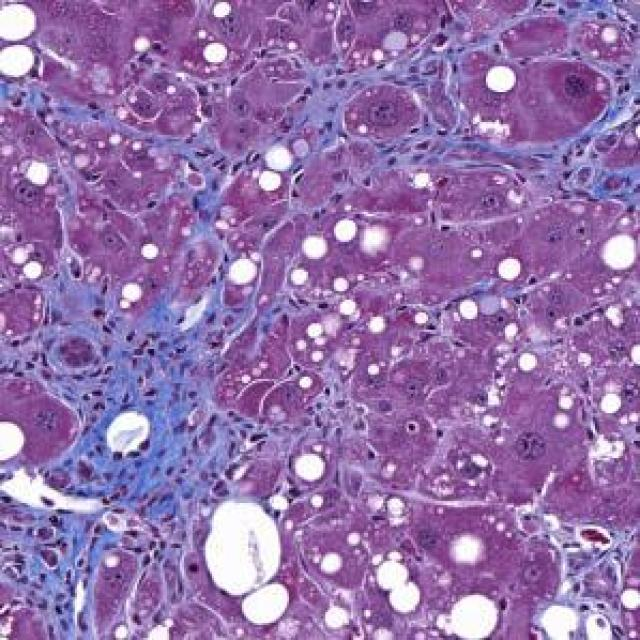fibrosis: (36, 259, 248, 407), (45, 424, 244, 554), (535, 0, 640, 223)
